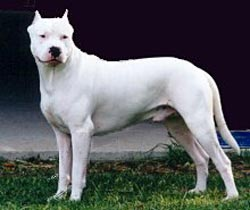dogo_argentino: (27, 9, 242, 203)
